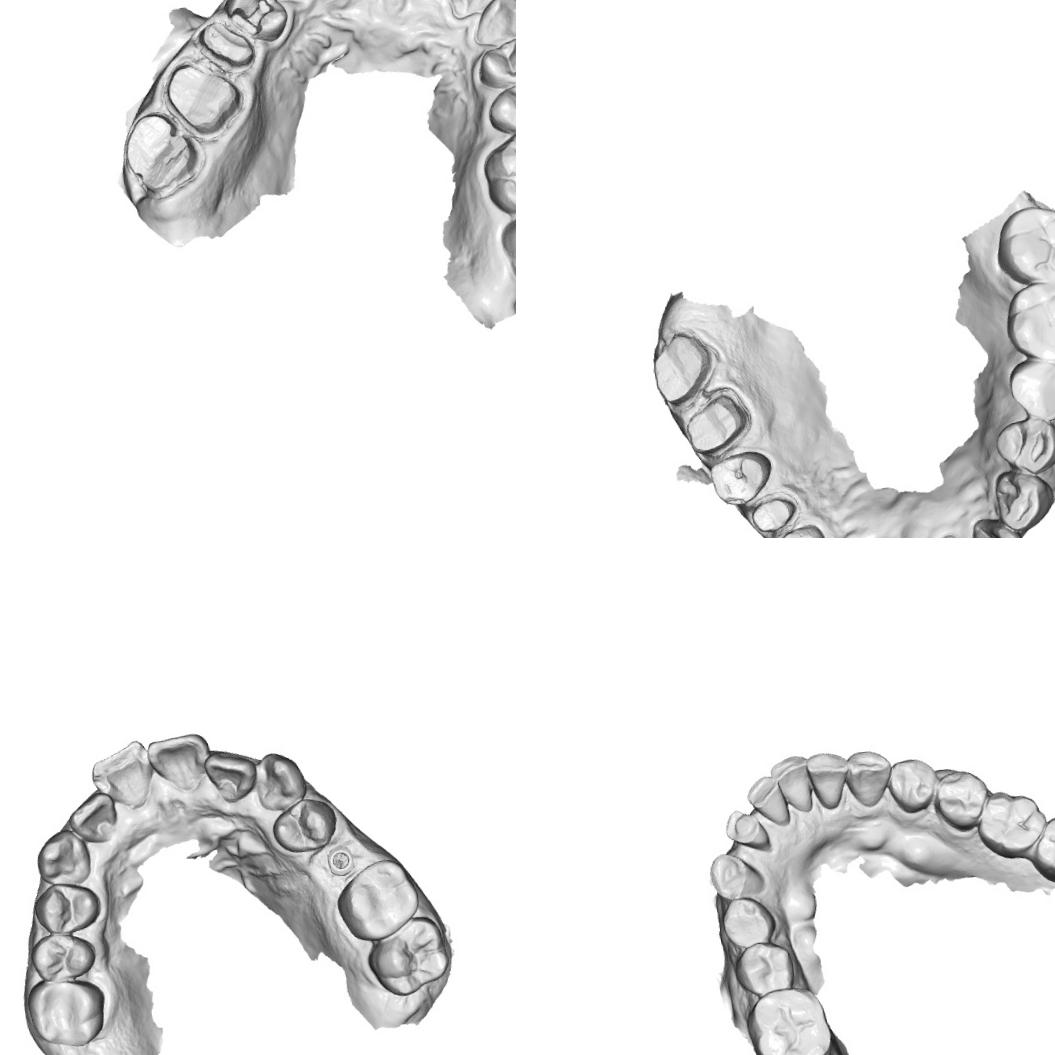canine: (989, 465, 1055, 535), (250, 748, 310, 816), (31, 826, 94, 889), (704, 847, 772, 902), (842, 744, 894, 810), (469, 0, 516, 49), (770, 521, 832, 538)
crown: (118, 107, 209, 203), (157, 54, 248, 144), (648, 326, 720, 408), (680, 388, 754, 458), (192, 15, 258, 78), (741, 488, 800, 538)
implant: (322, 840, 361, 880)
incisor: (86, 736, 156, 815), (144, 730, 214, 796), (202, 746, 258, 806), (804, 746, 854, 813), (766, 753, 817, 818), (64, 788, 120, 846), (742, 772, 792, 830), (722, 804, 774, 854), (966, 513, 1027, 538), (442, 0, 504, 22)
inlay: (226, 0, 277, 41)
molar: (330, 855, 424, 947), (360, 912, 452, 1001), (23, 974, 111, 1052), (987, 195, 1055, 294), (747, 982, 839, 1055), (973, 778, 1052, 860), (998, 277, 1055, 368), (481, 126, 516, 216), (1025, 810, 1055, 886)
premolar: (705, 447, 777, 512), (268, 795, 342, 856), (731, 937, 801, 1001), (30, 878, 103, 939), (989, 414, 1055, 481), (930, 766, 992, 836), (26, 928, 98, 986), (882, 753, 940, 817), (1005, 355, 1055, 425), (717, 896, 780, 950), (474, 33, 516, 90), (484, 76, 516, 139)
